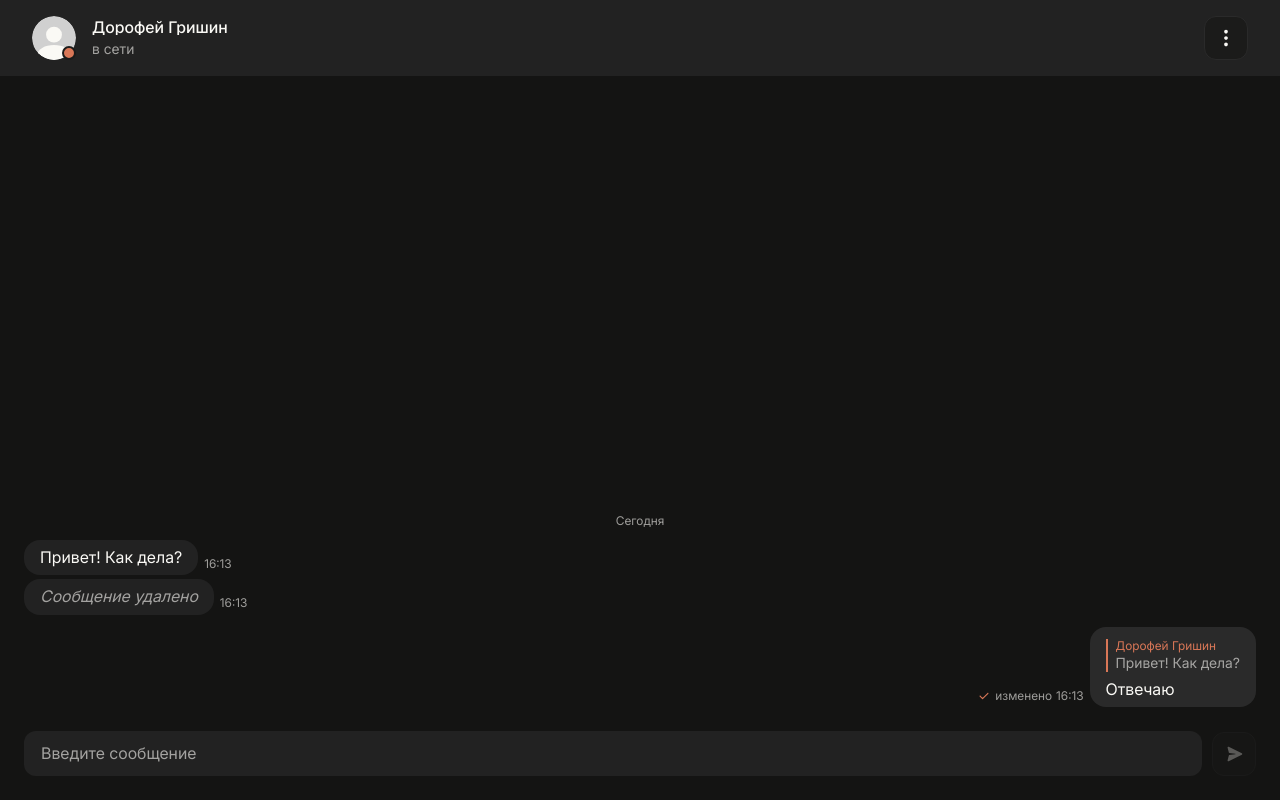
ChatWindow › offers edit and delete only for my messages
Right-click the text "Отвечаю": x=1140, y=689 [1106,679,1174,699]
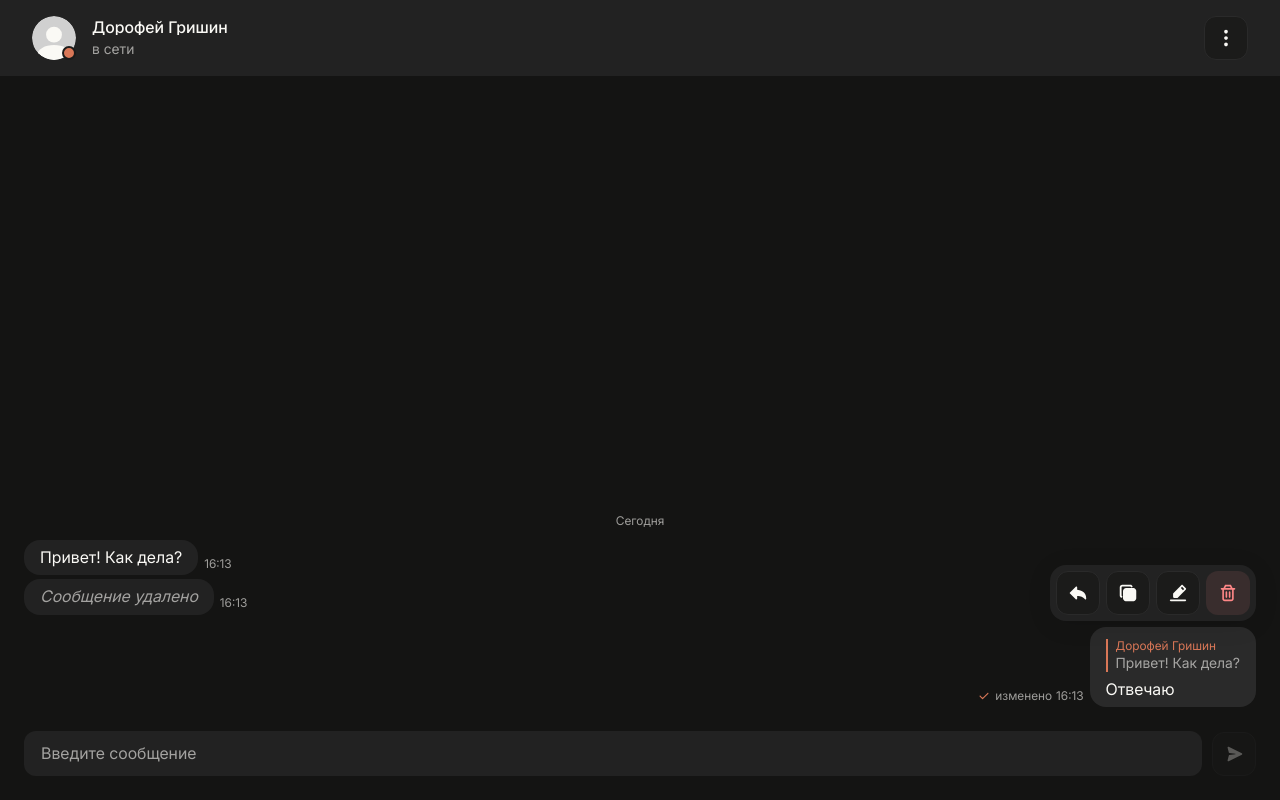
Check: the menu item named "Изменить" is shown, box [1156,571,1200,615]
Check: the menu item named "Удалить" is shown, box [1206,571,1250,615]
# клик по другому сообщению закрывает прежнюю панель (она закрывается по mousedown снаружи)
Press the mouse on the 1st text "Привет! Как дела?": x=111, y=557 [40,547,182,567]
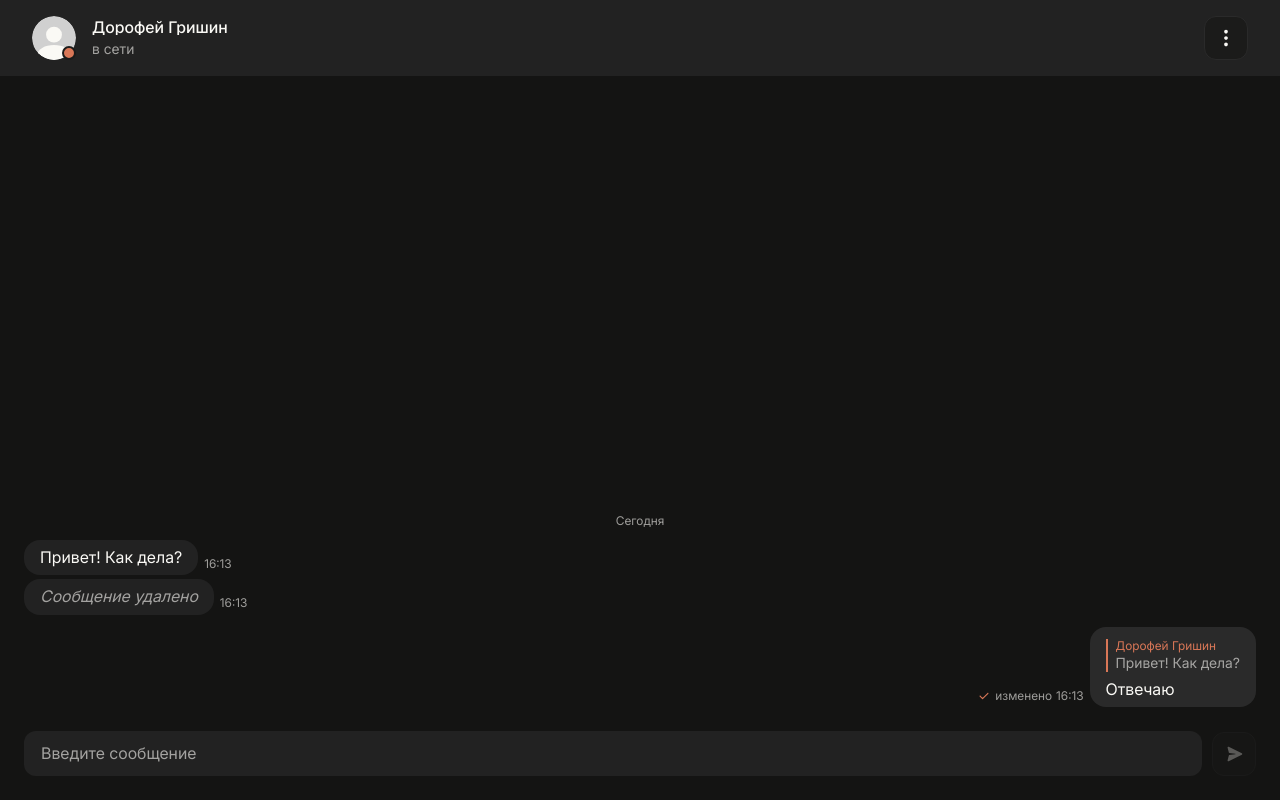
Right-click the 1st text "Привет! Как дела?": x=111, y=557 [40,547,182,567]
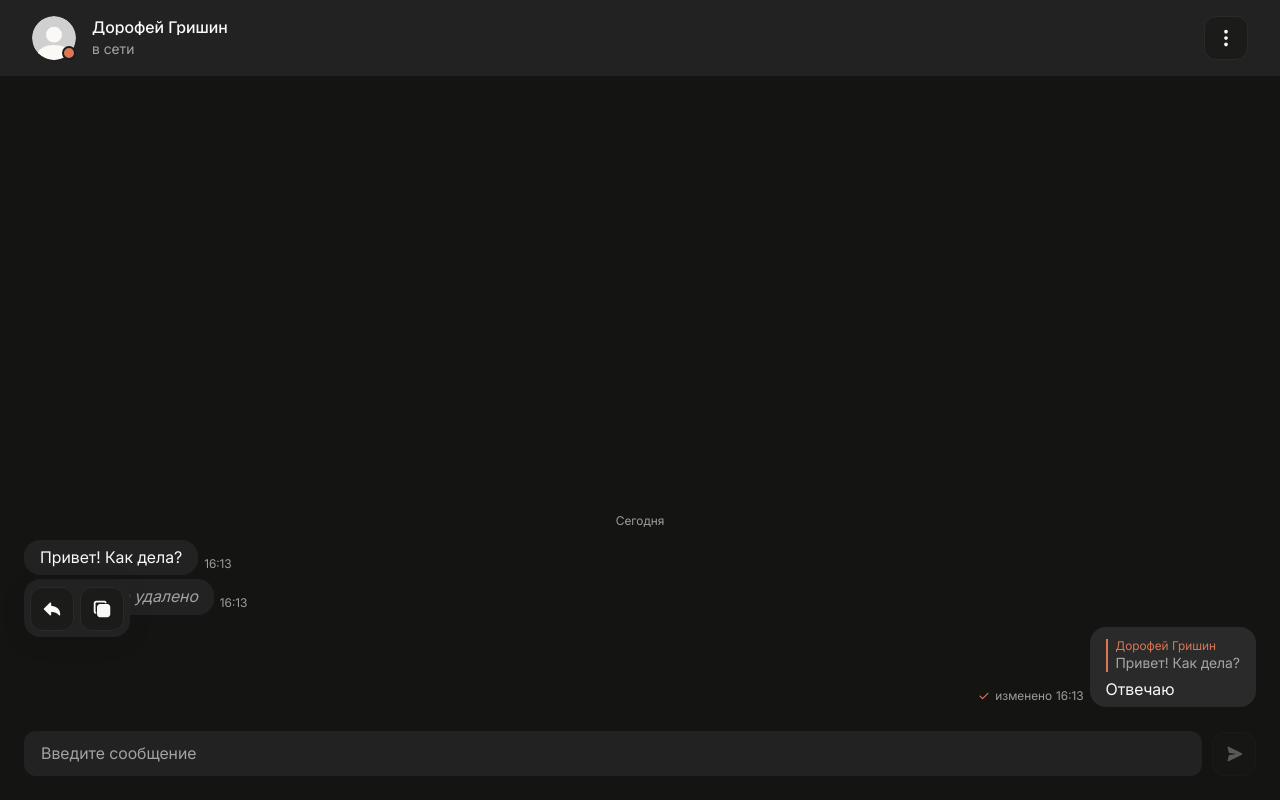
Check: the menu item named "Ответить" is shown, box [30,587,74,631]
